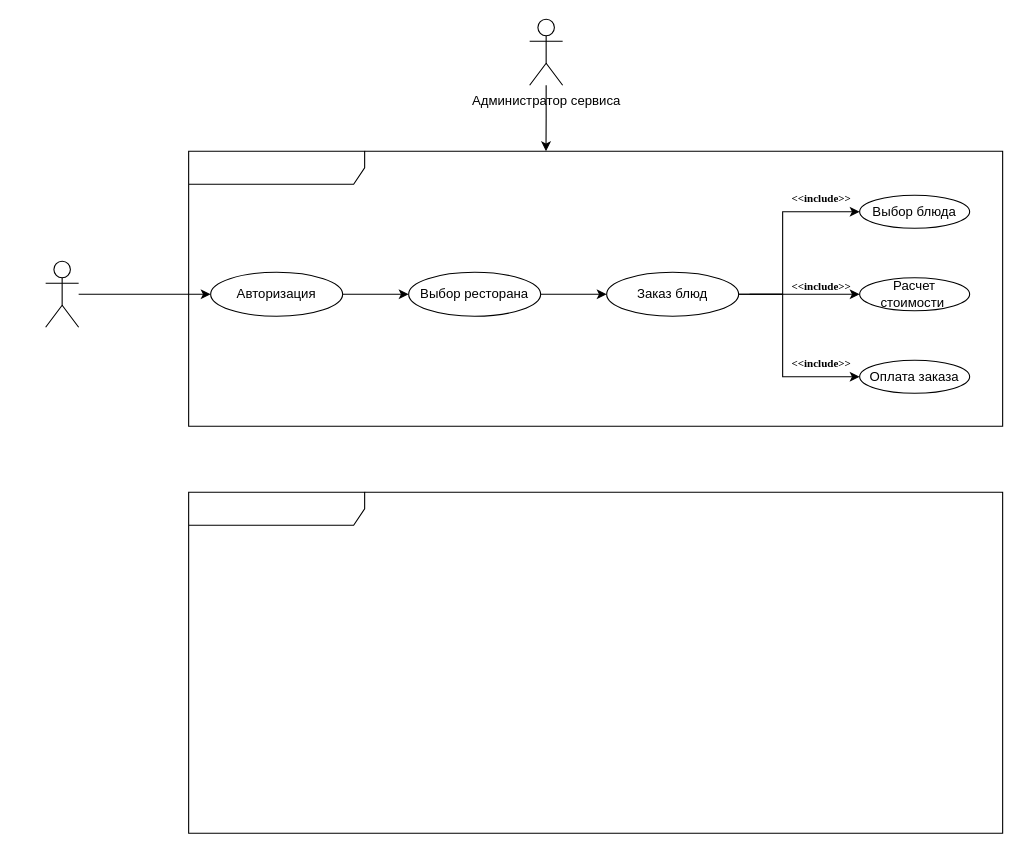
Some shapes in this 1022 by 853 pixel diagram are drawn without their labels. Here are the shapes that lost their labels. From the top down, the centre of each, then its label:
At point 62,293: "Пользователь".
At point 595,288: "Приложение доставки".
At point 595,662: "Diagram Heading".
